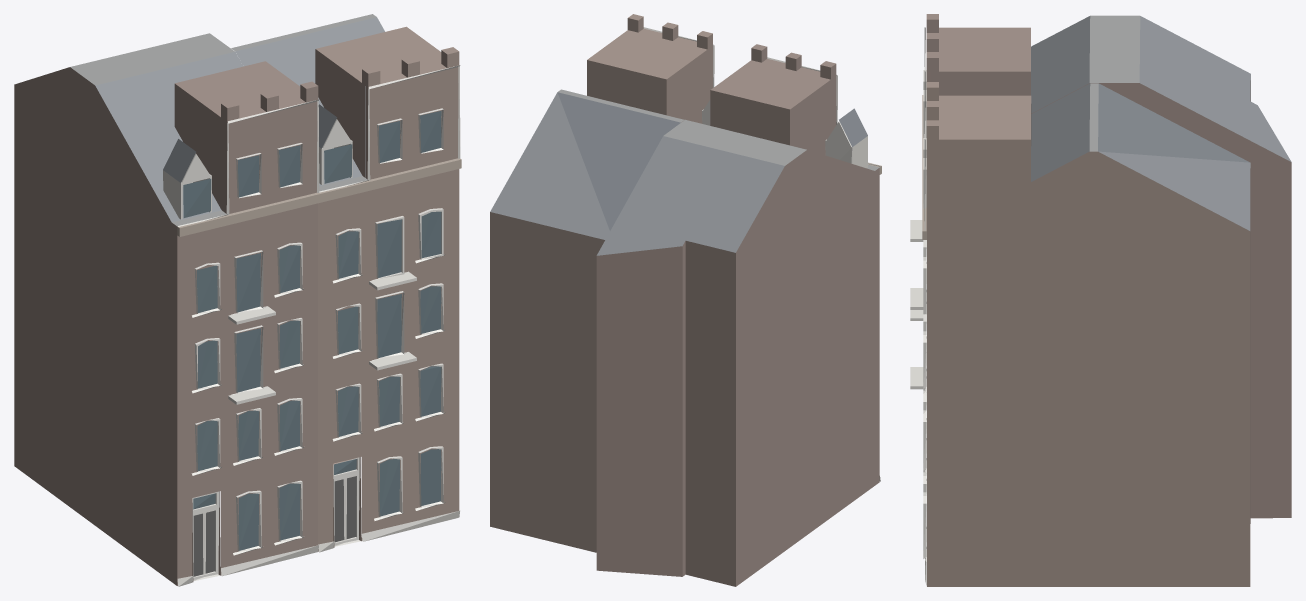
File: chunk-face-helmers-32-66-r2.lod2.glb
The picture shows the model from 3 angles, left to right: view 1: azimuth 30°, elevation 25°; view 2: azimuth 150°, elevation 25°; view 3: azimuth 270°, elevation 25°; orthographic projection. The views are drawn at different scales.
Parts seen in each view (by area): view 1: lod2; view 2: lod2; view 3: lod2.
Boxes of the visible parts, x1,y1,x2,y2 form: lod2: (14,14,461,586); lod2: (490,14,881,586); lod2: (910,14,1291,586).
Bounding box in the file's own units: 11.73 × 18.53 × 13.9.
